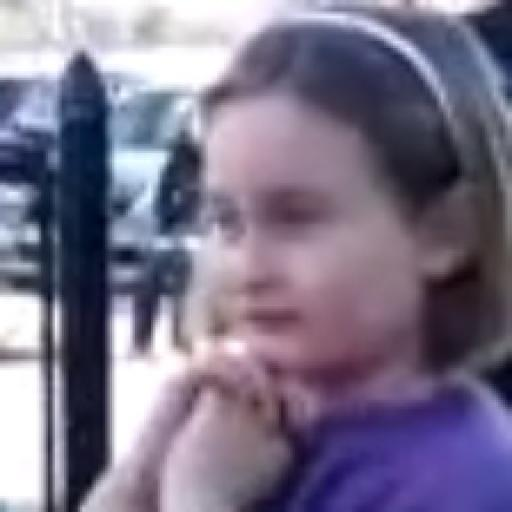Autism: (198, 64, 442, 481)
